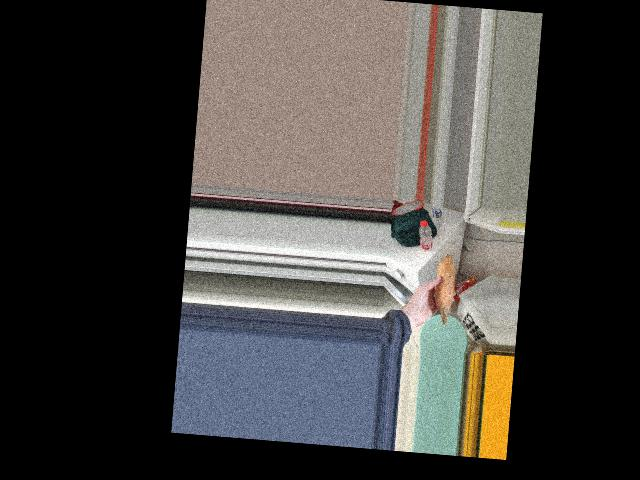sweet_potato: (434, 255, 455, 317)
